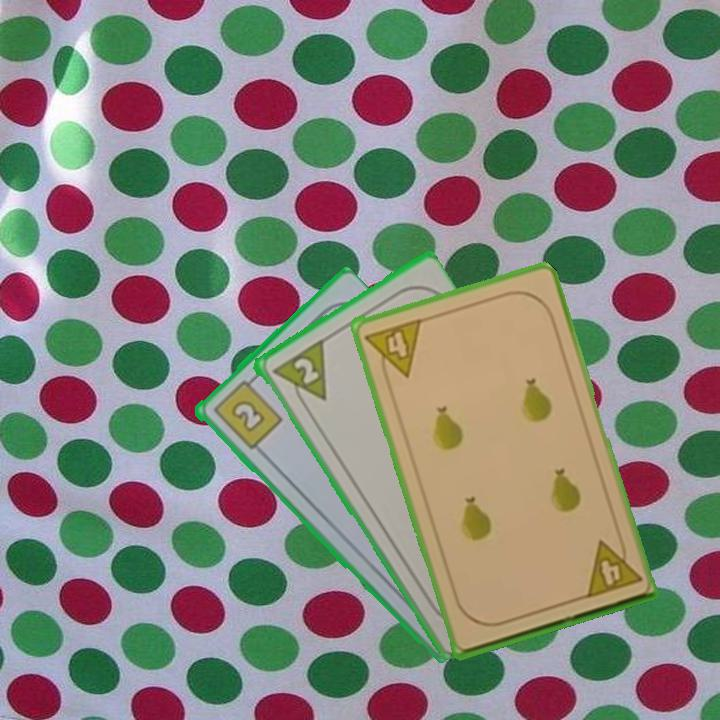2b: (209, 372, 285, 452)
2p: (268, 336, 330, 414)
4p: (361, 315, 425, 385), (581, 532, 645, 601)
